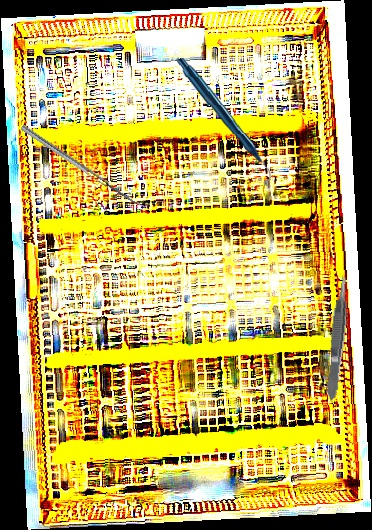Handpiece: (176, 55, 272, 184)
Spatula Surgical: (20, 119, 145, 210)
Tissue Forceps: (322, 271, 353, 402)
